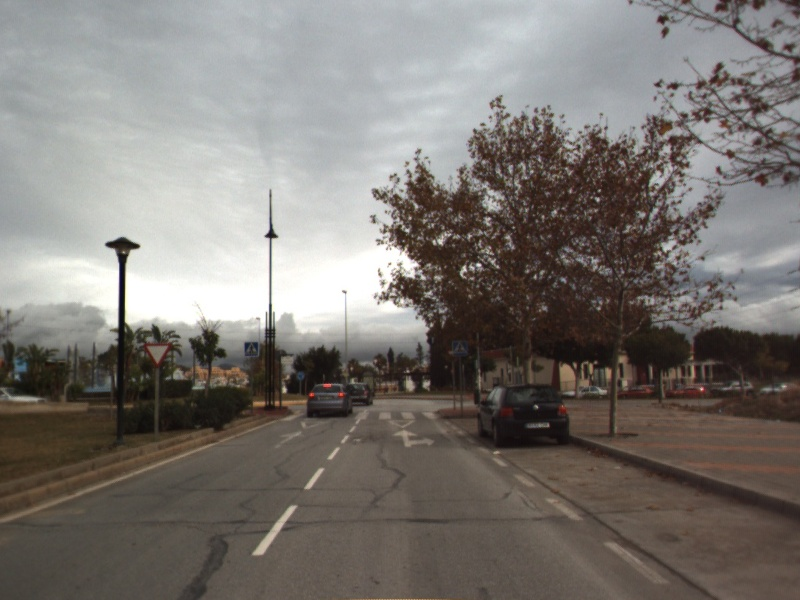STRAIGHT: (271, 429, 308, 450)
STRAIGHT_RIGHT: (390, 428, 437, 449)
